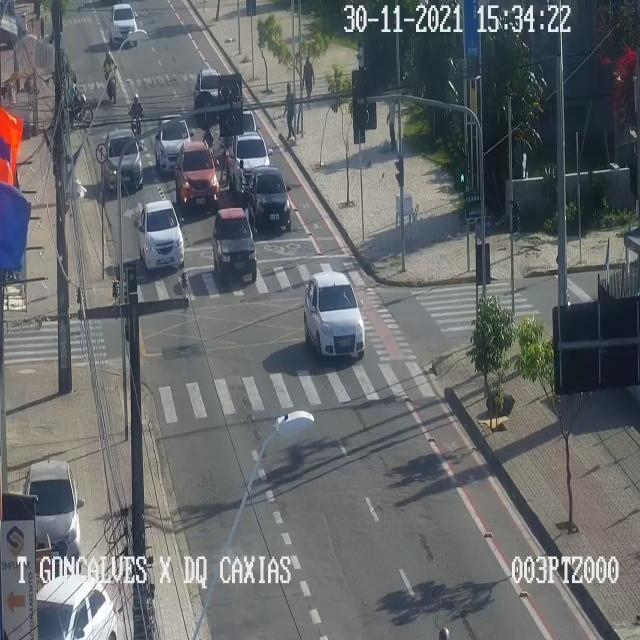Car: (24, 458, 86, 564), (303, 270, 363, 364), (36, 575, 120, 639), (212, 206, 256, 286), (137, 198, 185, 270), (228, 131, 274, 198), (176, 142, 220, 206), (248, 169, 292, 228), (104, 128, 146, 189), (156, 117, 194, 170), (108, 6, 142, 51), (194, 67, 220, 109)
Motorcycle: (55, 62, 97, 128), (103, 52, 119, 102), (129, 98, 145, 141)
